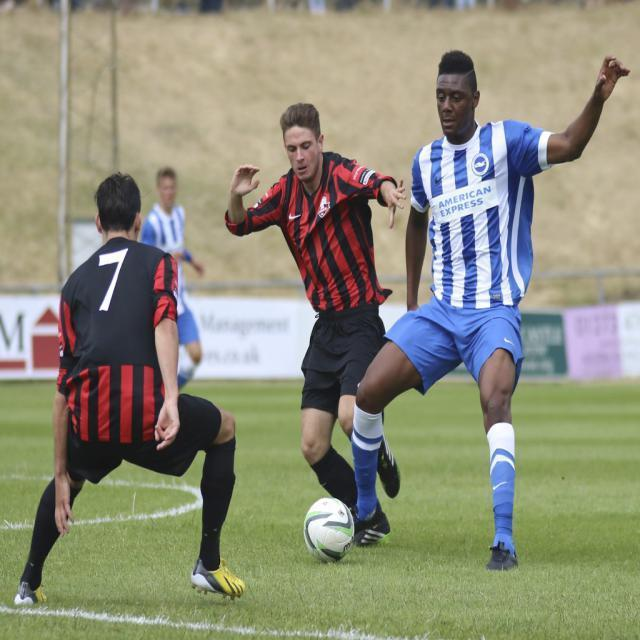football: (298, 492, 374, 573)
